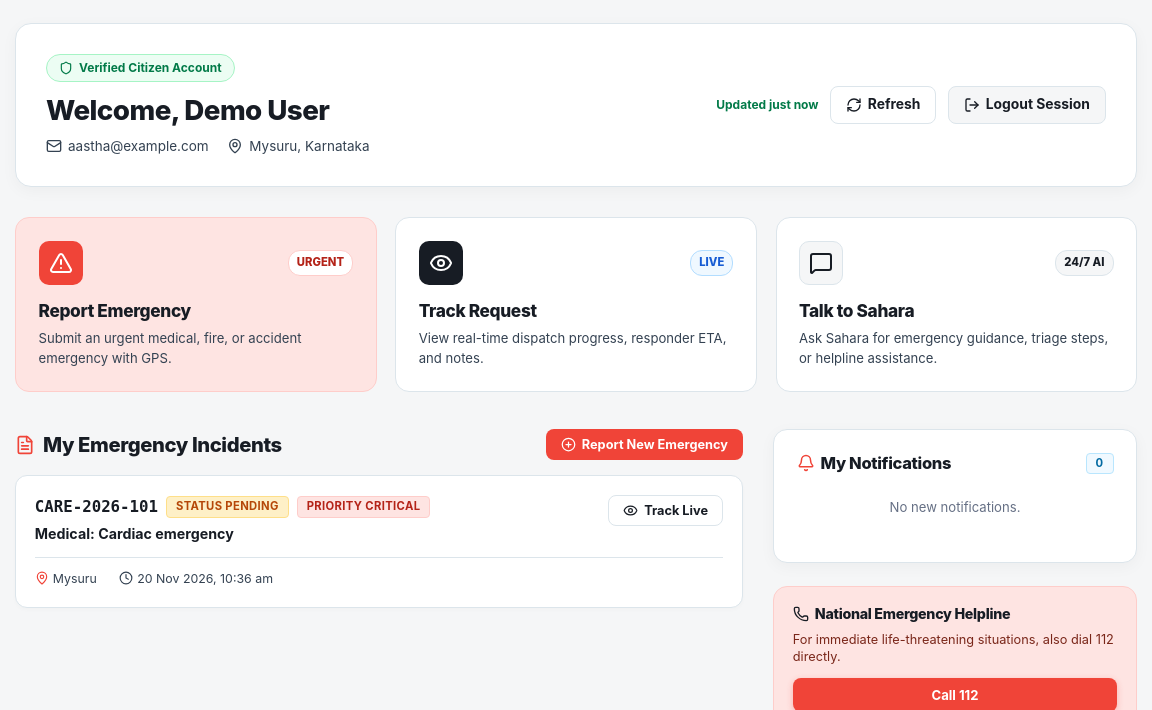
Test: Stage 3 — Notifications & Refresh Tests › Citizen Dashboard Refresh Success & Failure States › fetches fresh data from actual APIs and shows "Updated just now" on success
Expected: the text "CARE-2026-101" is shown, top-left (35, 495), bottom-right (158, 519)
Click the button "Refresh".
click(883, 105)  # box top-left (830, 86), bottom-right (936, 124)
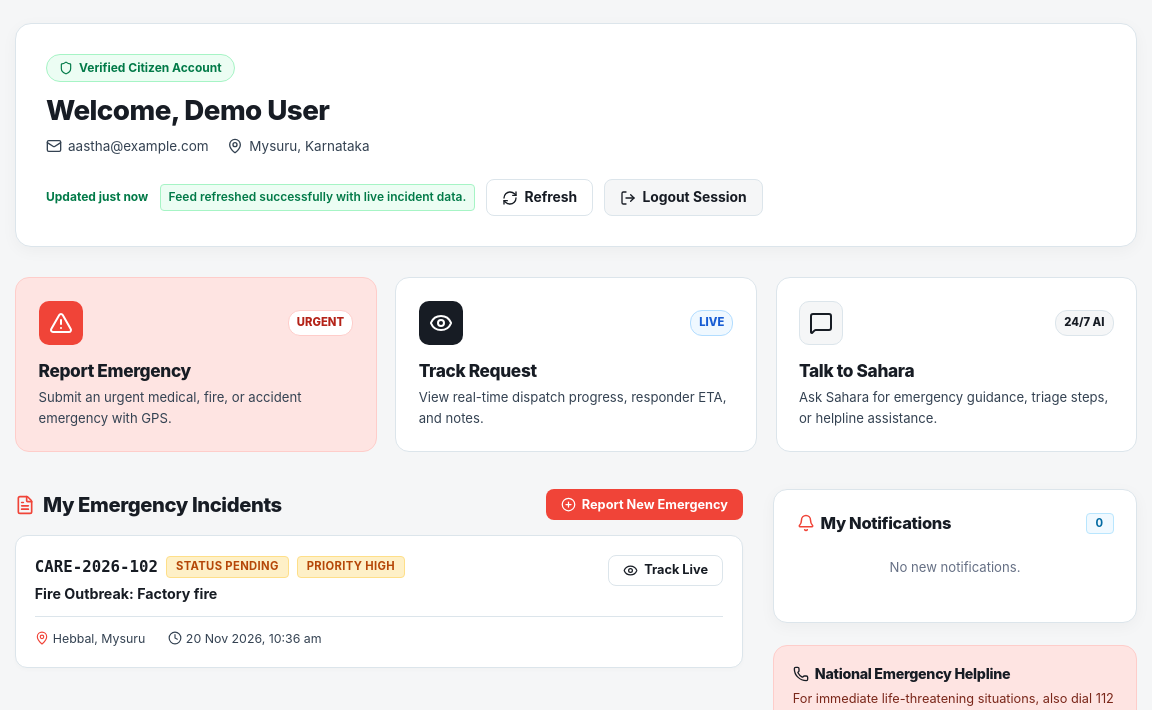
Expected: the text "Updated just now" is shown, top-left (46, 188), bottom-right (148, 207)
Expected: the text "CARE-2026-102" is shown, top-left (35, 555), bottom-right (158, 579)
